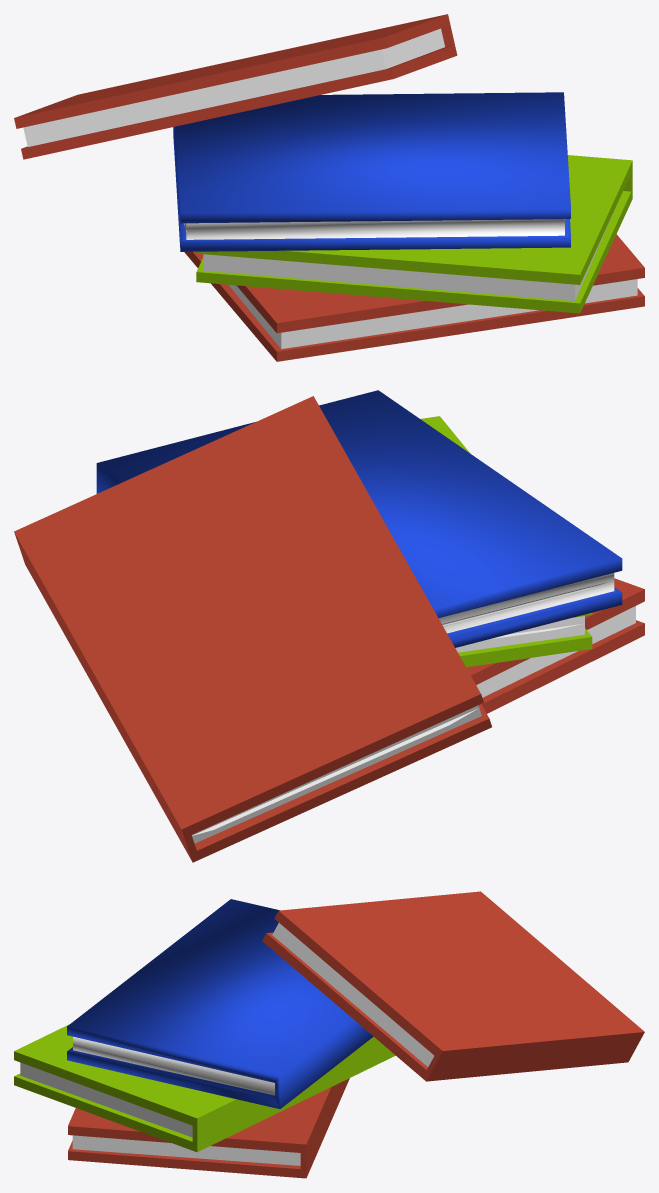
File: books.fbx
3 views of the same model, one above another, from view 1: azimuth 30°, elevation 25°; view 2: azimuth 150°, elevation 25°; view 3: azimuth 270°, elevation 25° (orthographic). The views are drawn at different scales.
Parts seen in each view (by area): view 1: kitap2, kitap1, kitap3, kitap; view 2: kitap3, kitap2, kitap, kitap1; view 3: kitap3, kitap2, kitap1, kitap.
Part boxes in pixels (x1=…): kitap2: x1=173, y1=92, x2=570, y2=251; kitap1: x1=196, y1=155, x2=632, y2=313; kitap3: x1=14, y1=14, x2=457, y2=159; kitap: x1=184, y1=234, x2=644, y2=361; kitap3: x1=14, y1=396, x2=491, y2=862; kitap2: x1=96, y1=390, x2=622, y2=647; kitap: x1=466, y1=578, x2=644, y2=713; kitap1: x1=420, y1=416, x2=592, y2=667; kitap3: x1=262, y1=891, x2=644, y2=1081; kitap2: x1=67, y1=899, x2=373, y2=1108; kitap1: x1=14, y1=1024, x2=395, y2=1152; kitap: x1=68, y1=1078, x2=349, y2=1178.
Size of the model in its own units: 468 by 216 by 637.
